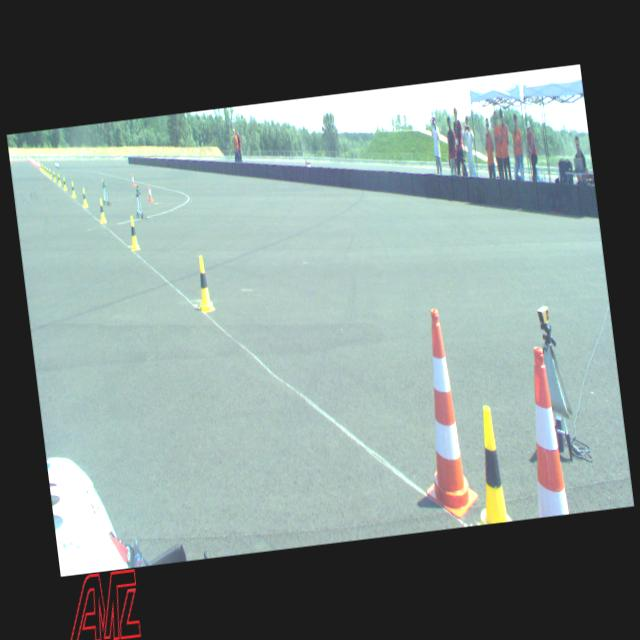large_orange_cone: (405, 307, 480, 521), (518, 346, 568, 516)
orange_cone: (146, 184, 152, 202), (131, 173, 134, 186)
yellow_cone: (464, 404, 512, 524), (193, 255, 214, 312), (128, 215, 140, 250), (98, 198, 106, 222), (80, 187, 88, 207), (70, 180, 75, 197), (62, 176, 67, 189), (57, 173, 61, 184), (48, 168, 52, 178), (53, 171, 56, 181)
